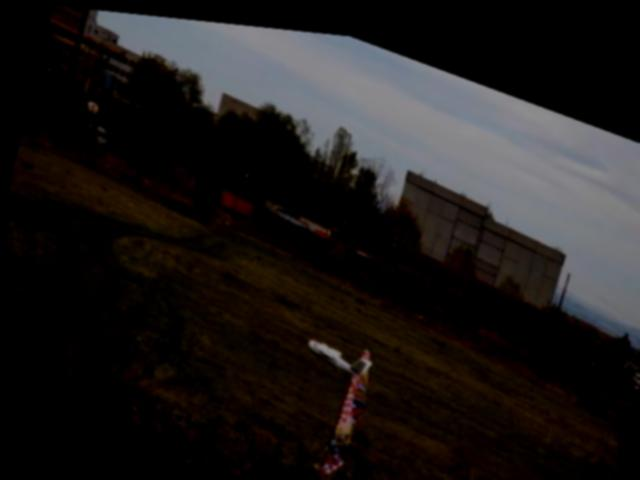uav: (289, 311, 379, 386)
